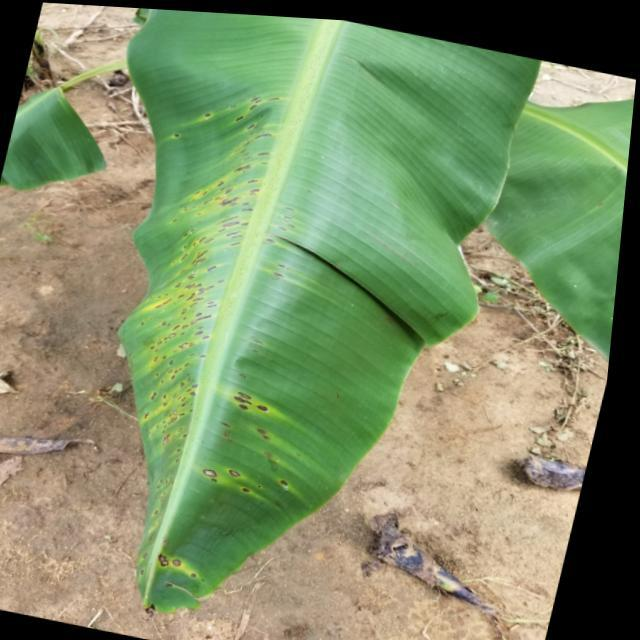Early_rust: (99, 70, 332, 635)
